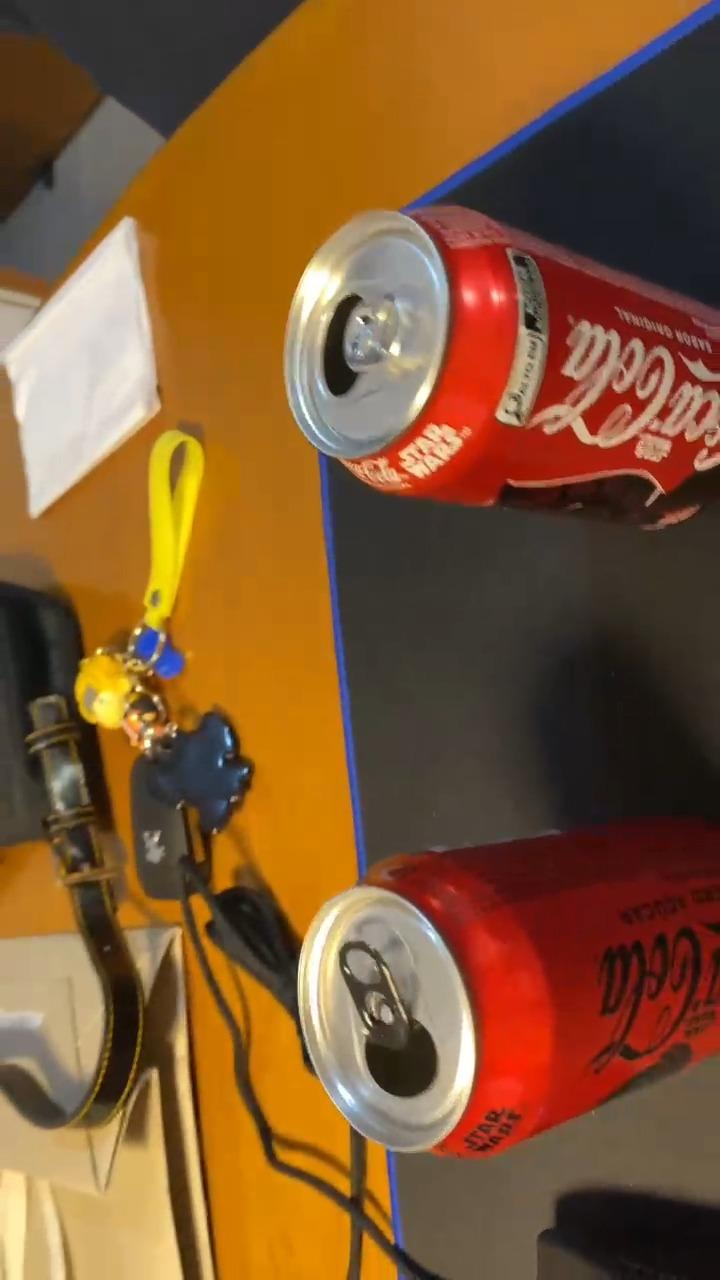coke: (301, 819, 718, 1166), (285, 200, 720, 521)
